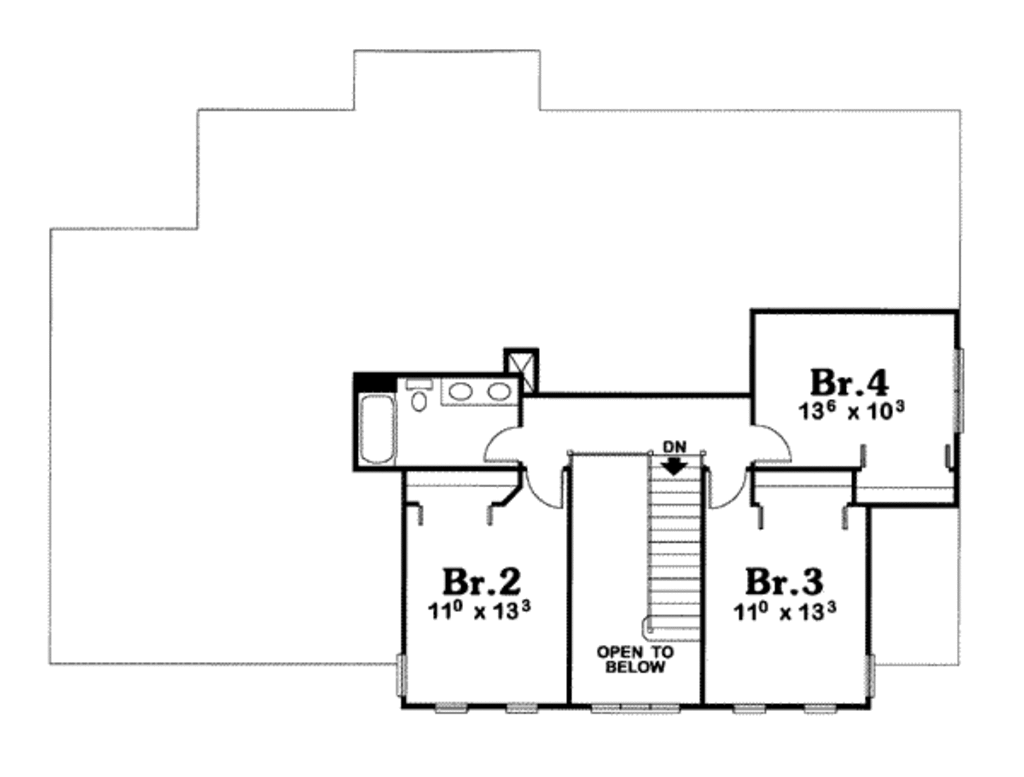door: (747, 418, 795, 471), (524, 462, 569, 514), (703, 462, 750, 510), (479, 424, 526, 466)
large_sink: (402, 375, 439, 416)
small_sink: (439, 374, 523, 413)
stairs: (639, 433, 710, 647)
tub: (356, 390, 401, 475)
window: (949, 343, 970, 437), (587, 699, 684, 717), (861, 649, 881, 704), (798, 698, 840, 721), (498, 699, 540, 720), (395, 647, 410, 702), (428, 701, 476, 718), (728, 700, 767, 719)
